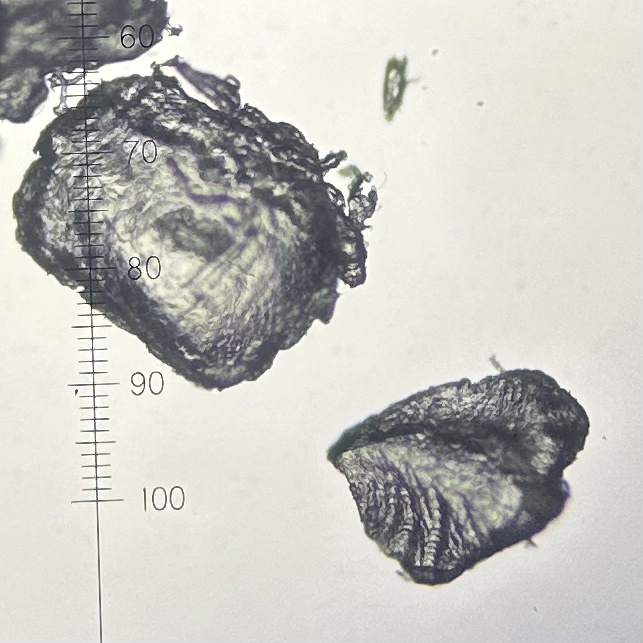microplastic: (8, 59, 383, 394), (325, 352, 594, 588), (1, 1, 185, 124), (151, 52, 243, 113), (380, 55, 410, 124)
